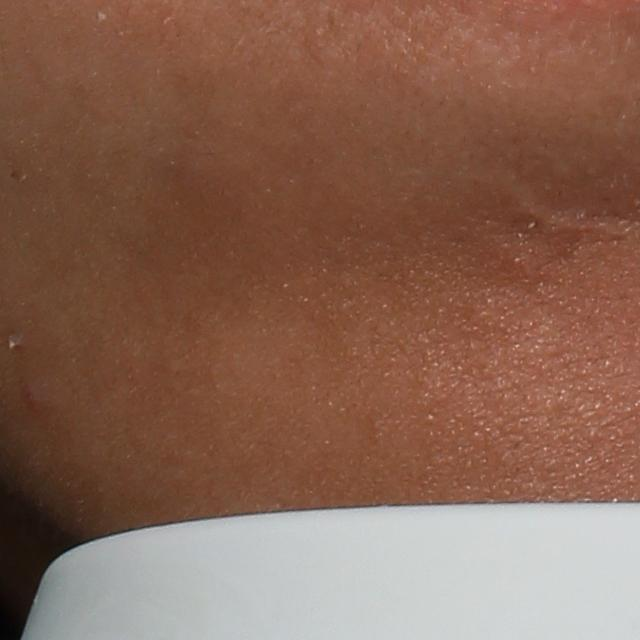papule: (17, 383, 49, 414)
